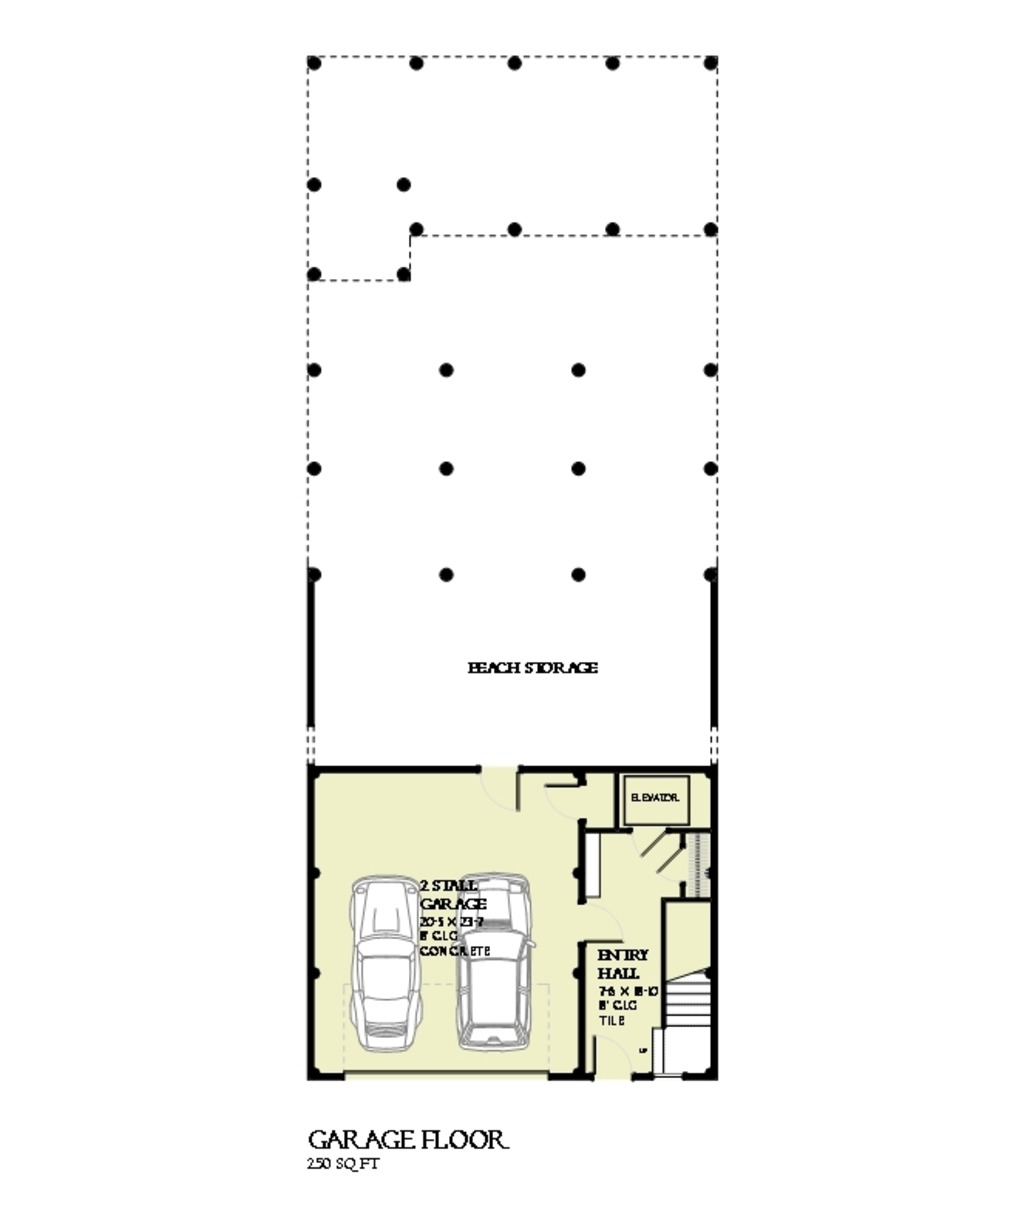stairs: (662, 894, 712, 1081)
windows: (338, 1063, 566, 1081)
